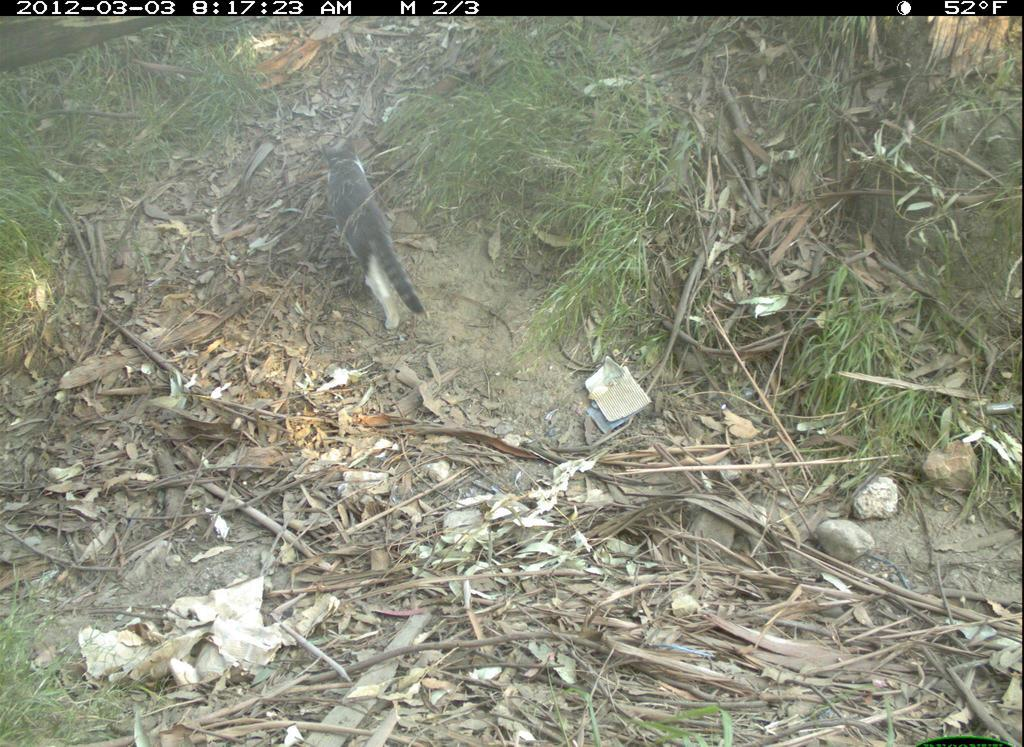cat: (301, 132, 433, 341)
